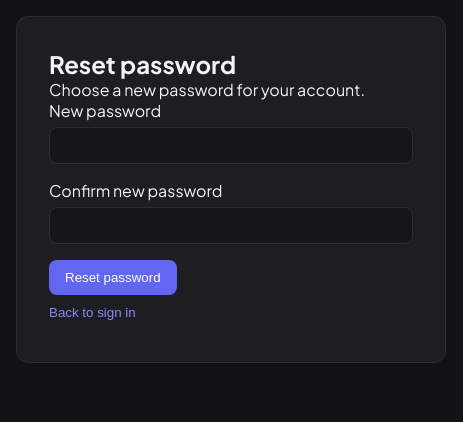
Test: password recovery › shows rate limit and expired link errors without submitting twice
Later steps or results of the test are not shown.
Type "secret1" into the password field labelled "New password".
click(231, 145); type("secret1")  # box [49, 127, 413, 164]
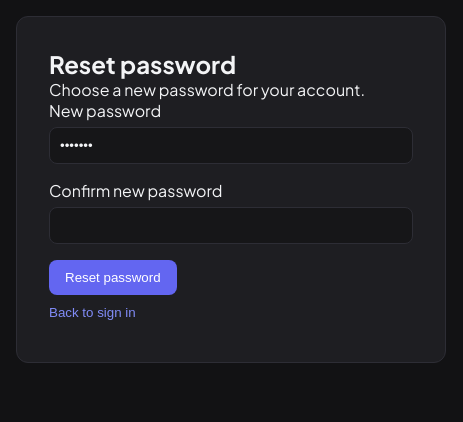
Type "secret1" into the password field labelled "Confirm new password".
click(231, 225); type("secret1")  # box [49, 207, 413, 244]
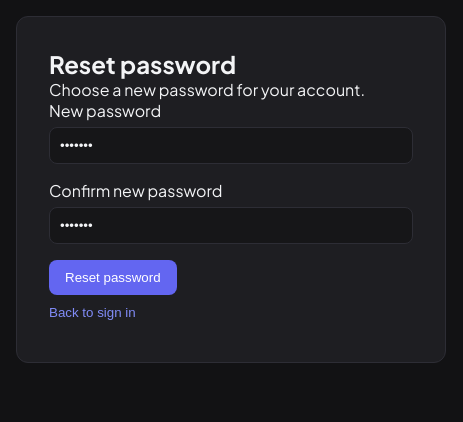
Click the button "Reset password".
click(113, 277)  # box [49, 260, 177, 295]
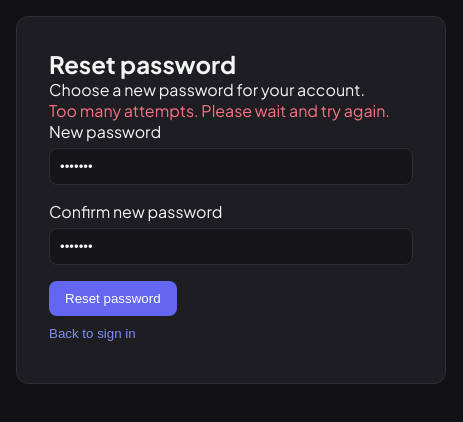
Now the message shows "Too many attempts", box [49, 100, 390, 121]
Click the button "Reset password".
click(113, 298)  # box [49, 281, 177, 316]
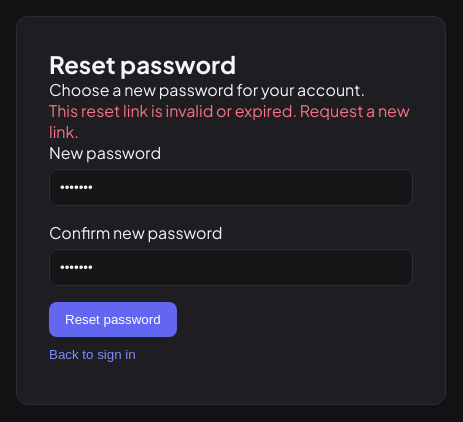
Now the message shows "invalid or expired", box [49, 100, 410, 142]
